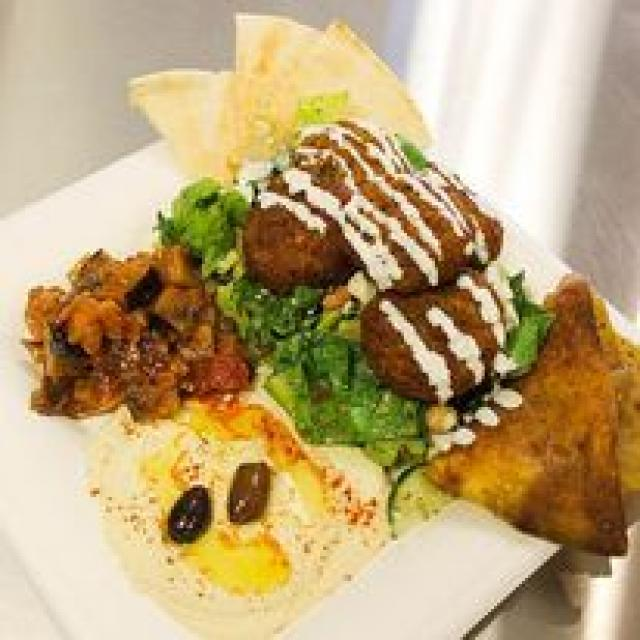Samosa: (435, 267, 634, 569)
